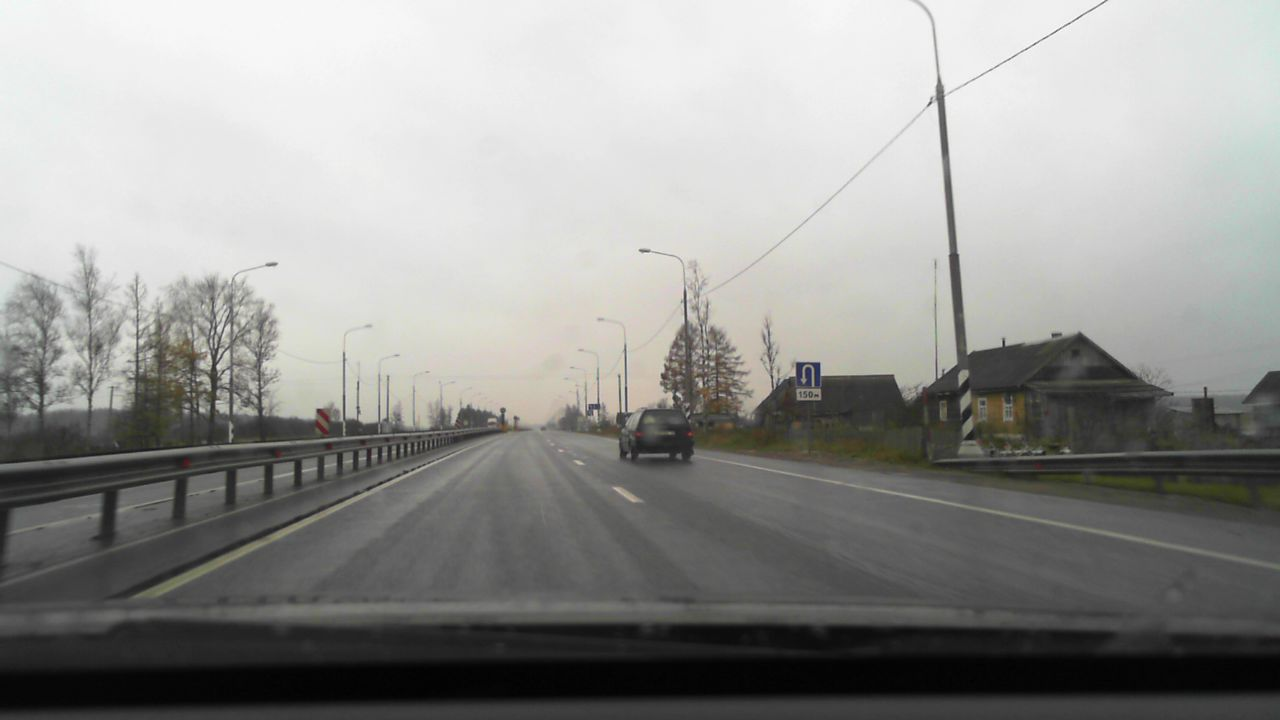U-turn: (796, 362, 821, 387)
